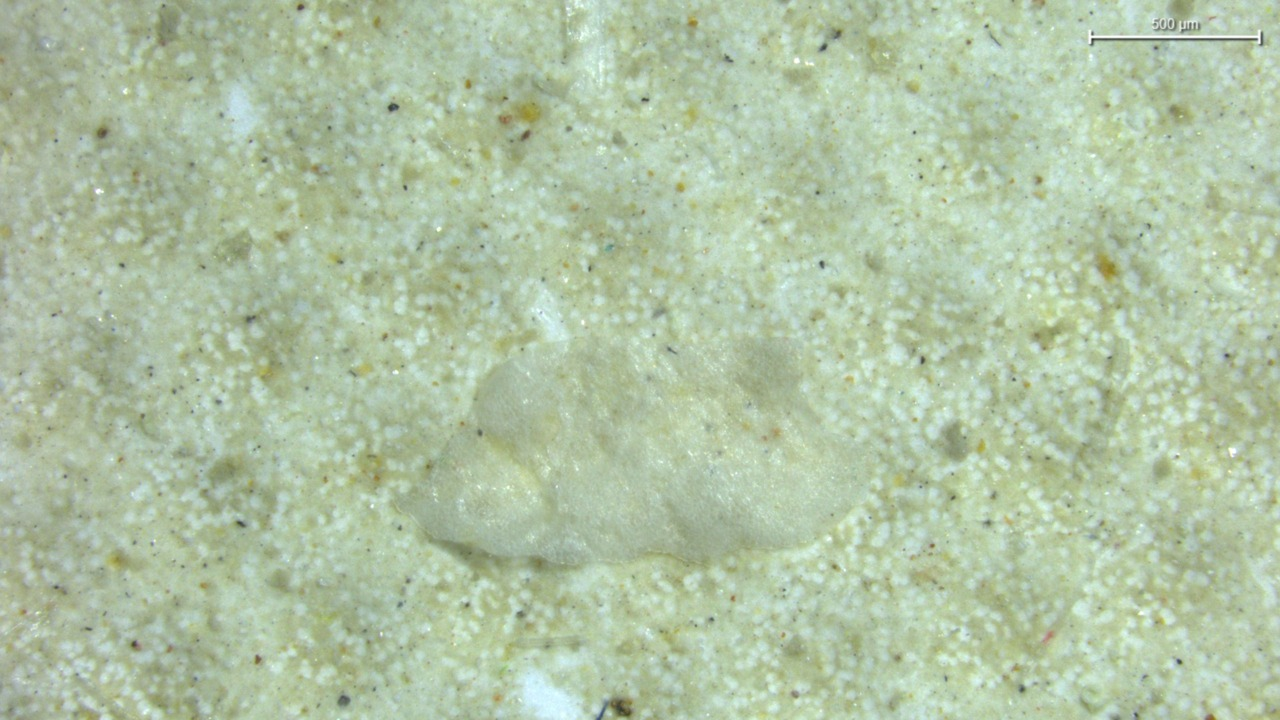microplastic_fragment: (397, 338, 873, 564)
